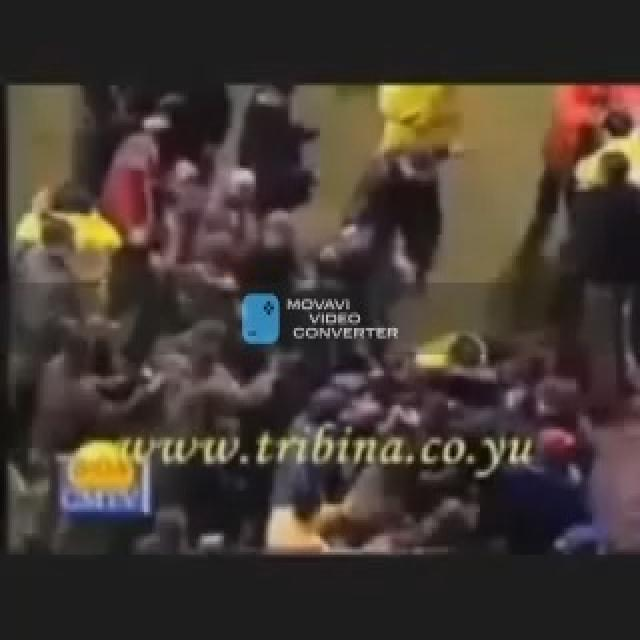non-voilence: (4, 74, 638, 554)
